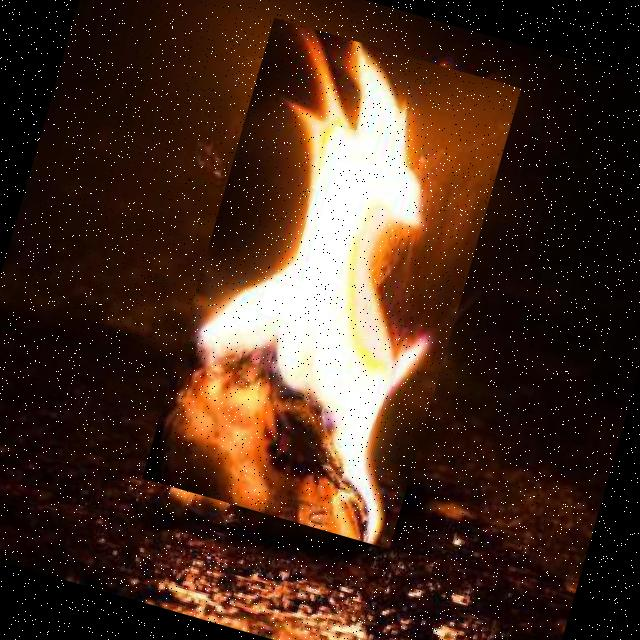fire: (142, 18, 520, 548)
